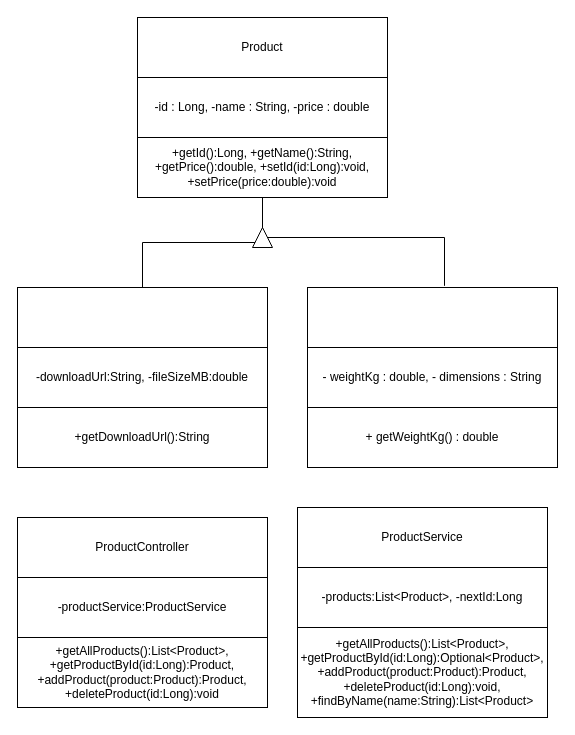
The diagram is 575 pixels wide and 735 high, and some of its shapes have lost their labels. Here are the shapes that lost their labels. From the top down, the centre of each, then its label:
At (142,317): "DigitalProduct".
At (432,317): "PhysicalProduct".
